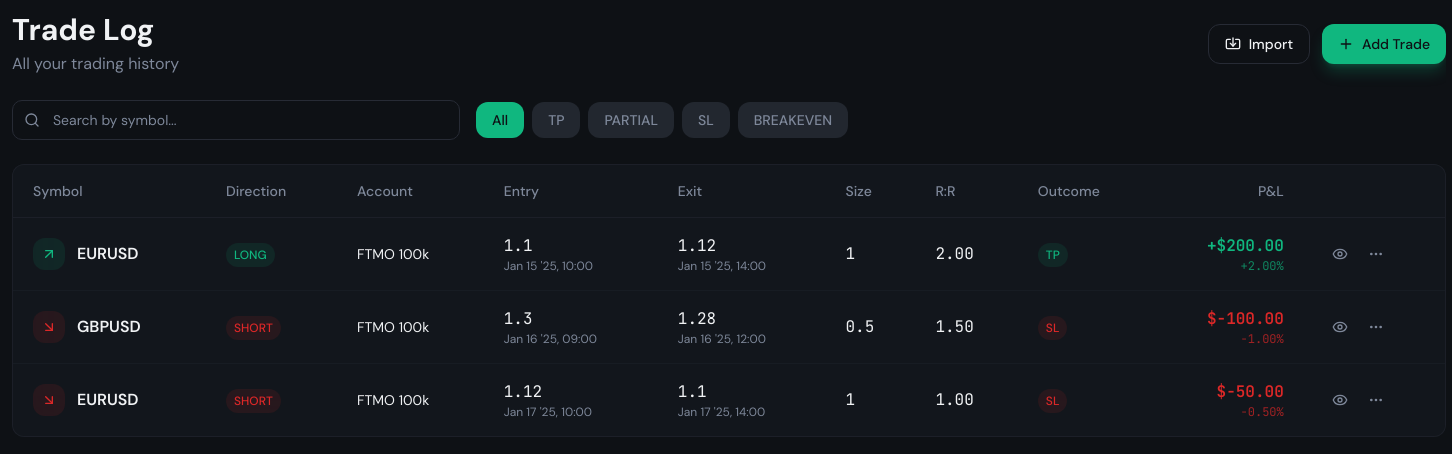
TradesView - Filtering with useMemo › filters trades by outcome when clicking outcome filter buttons
The image size is (1452, 454).
expect the text "GBPUSD" is shown: met, box 77,315 -> 141,339
Note: The filter button is the one in the filter bar area
Click the button "TP".
click(556, 120)  # box 532,102 -> 580,138
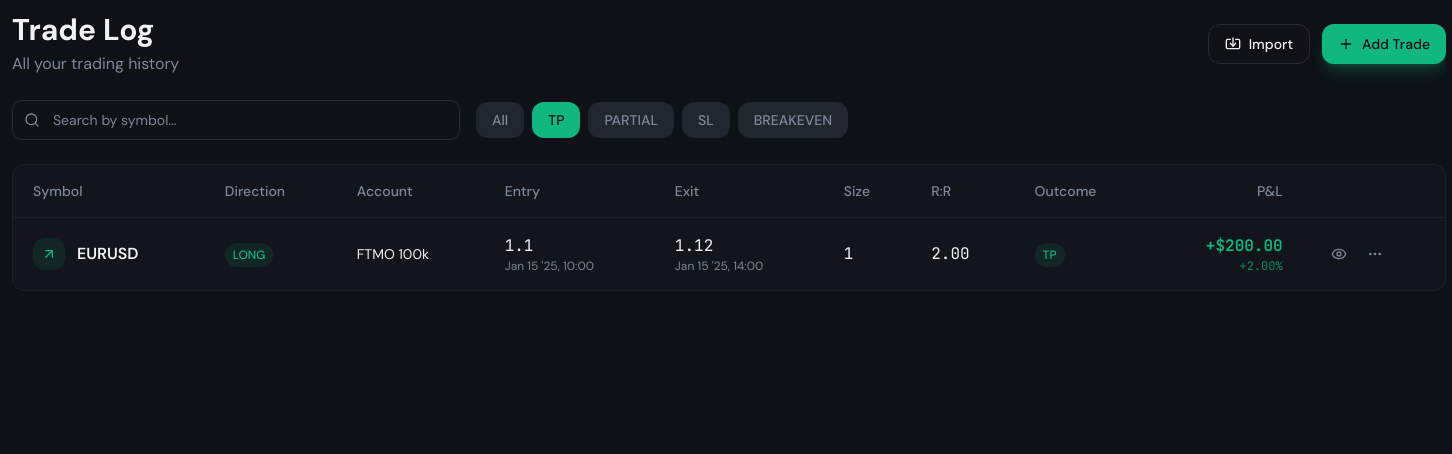
expect the text "GBPUSD" is gone: met
